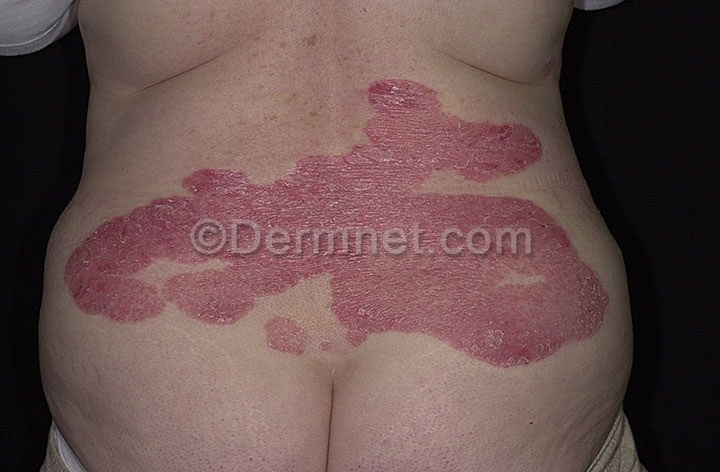Psoriasis: (88, 87, 595, 370)
